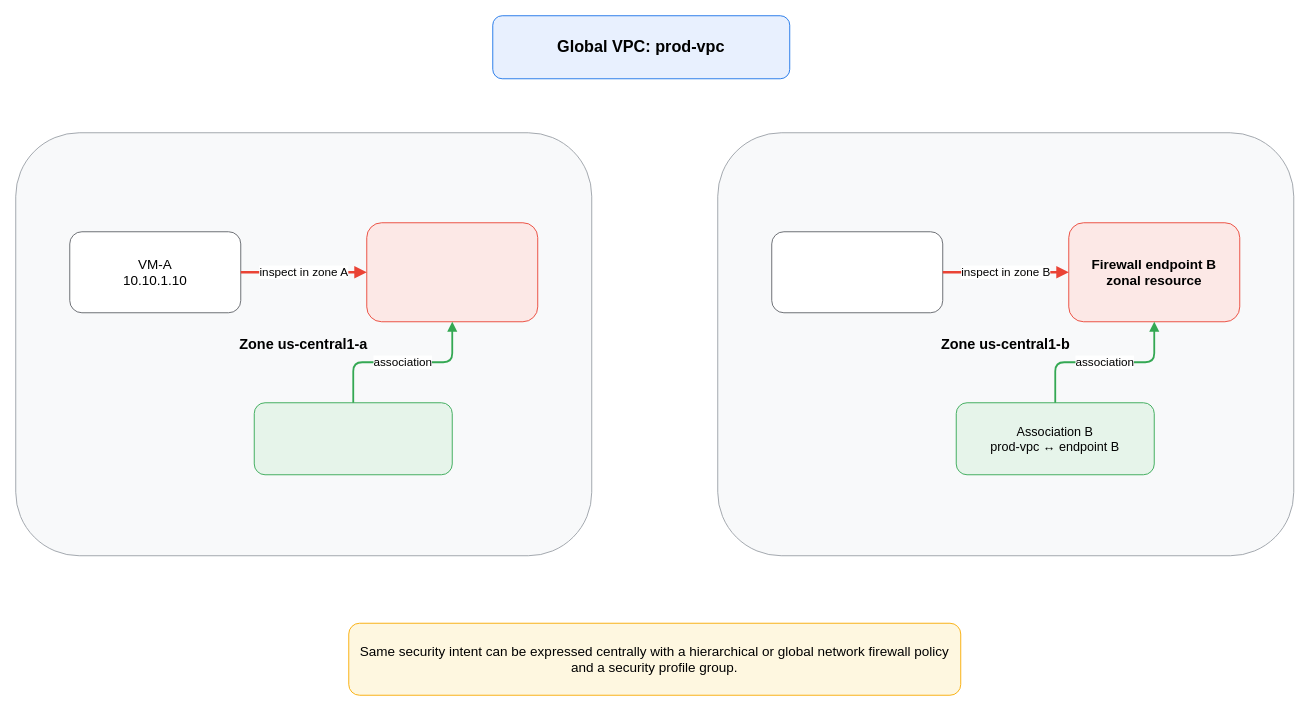
Some shapes in this 1310 by 711 pixel diagram are drawn without their labels. The shapes that lost their labels are listed below. From the top down, each one's centre as x and y in pixels, then its label:
At pixel 452 272: "Firewall endpoint A zonal resource".
At pixel 857 272: "VM-B 10.10.2.10".
At pixel 352 438: "Association A prod-vpc ↔ endpoint A".
